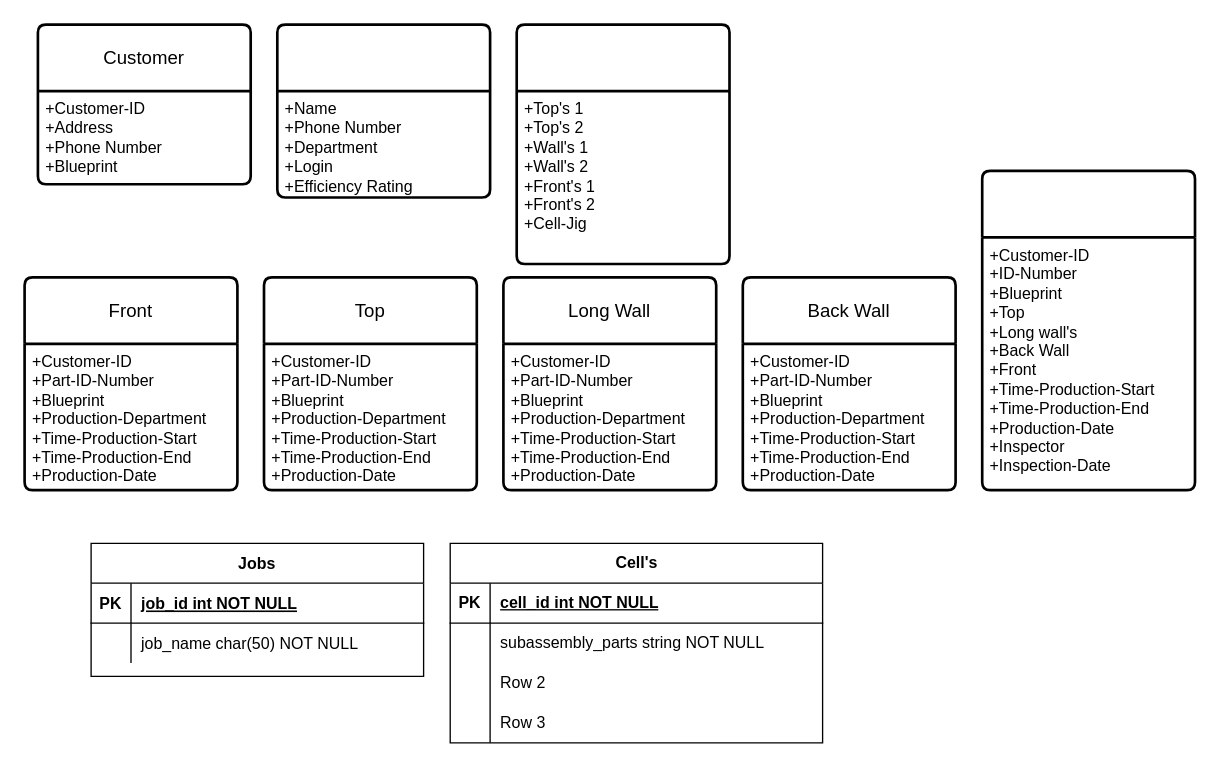
Image size: 1218x766. Some labels were removed from this diagram. Here are the shapes that lost their labels. From the top down, the box of each, then its label:
(275, 23, 491, 198): Employee
(515, 23, 730, 265): Weld Shop
(980, 169, 1196, 491): Cell
